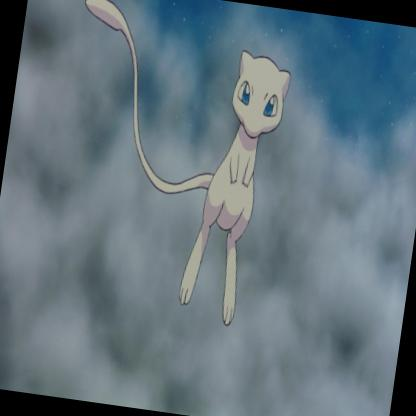Mew: (48, 0, 369, 415)
